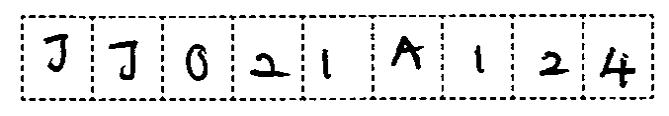0: (178, 38, 215, 84)
1: (315, 39, 345, 87), (465, 40, 494, 81)
2: (244, 46, 293, 88), (536, 45, 573, 81)
4: (594, 44, 641, 92)
A: (384, 31, 430, 79)
J: (104, 34, 144, 85), (36, 26, 76, 76)
